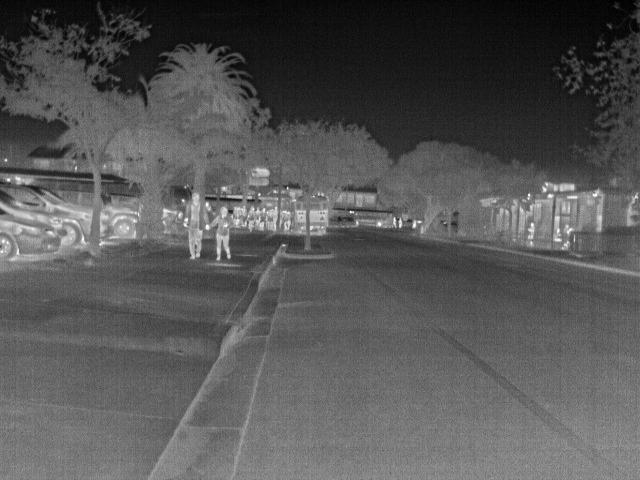car: (2, 179, 94, 249), (3, 206, 59, 262), (104, 203, 140, 241), (162, 207, 181, 234)
person: (181, 193, 212, 260), (206, 206, 236, 264), (524, 222, 539, 250), (243, 206, 258, 234), (560, 223, 575, 249), (257, 206, 269, 232), (553, 226, 565, 243), (392, 214, 399, 227), (397, 218, 404, 228)
